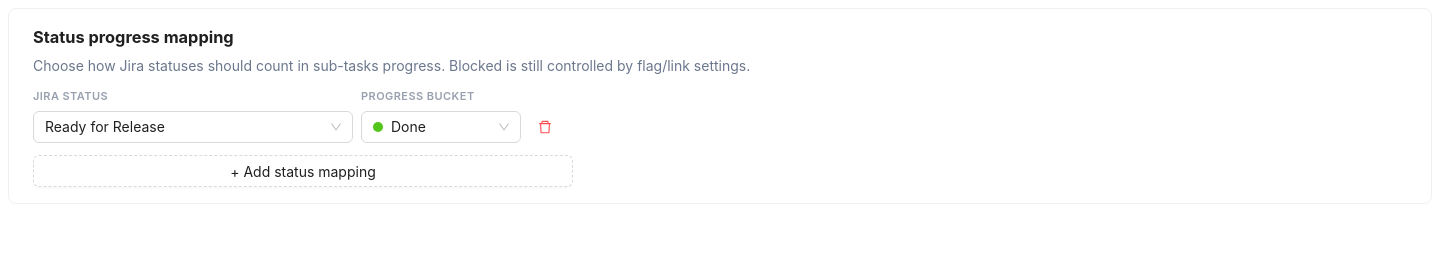
it: StatusProgressMappingContainer › keeps a second draft row visible after Add when the first row is already mapped
expect the element with test id "status-progress-mapping-status-0" is shown: met, box [33,111,353,143]
Click the button "+ Add status mapping": (303,171) [33,155,573,187]
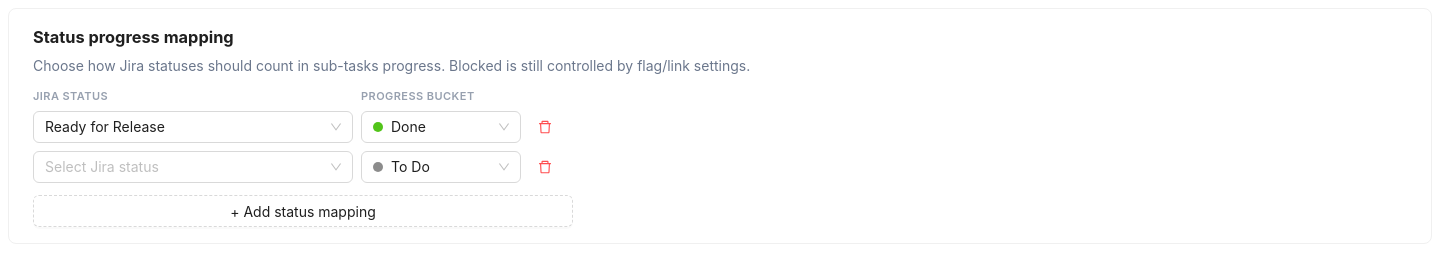
expect the element with test id "status-progress-mapping-status-1" is shown: met, box [33,151,353,183]
expect the element with test id "status-progress-mapping-bucket-1" is shown: met, box [361,151,521,183]
